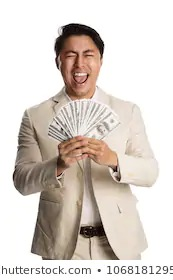F_M_suit jacket: (15, 82, 160, 259)
